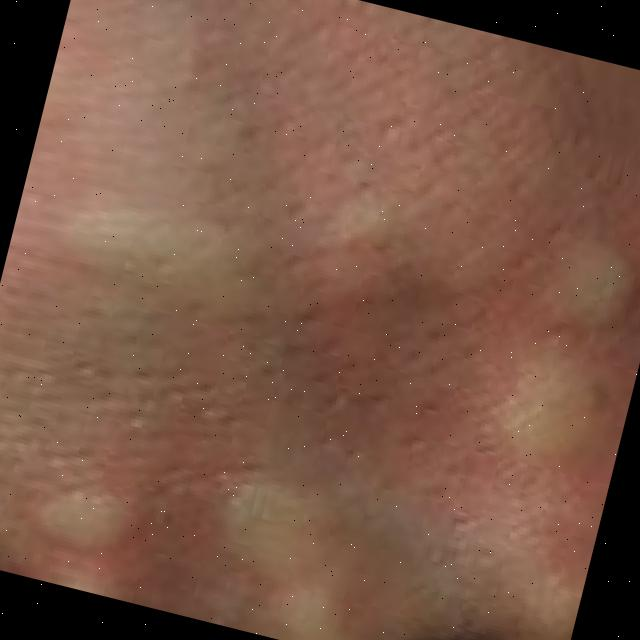sinek: (256, 149, 523, 341), (41, 152, 258, 344), (194, 444, 380, 603), (468, 332, 625, 497), (1, 456, 177, 594), (512, 192, 640, 353)
